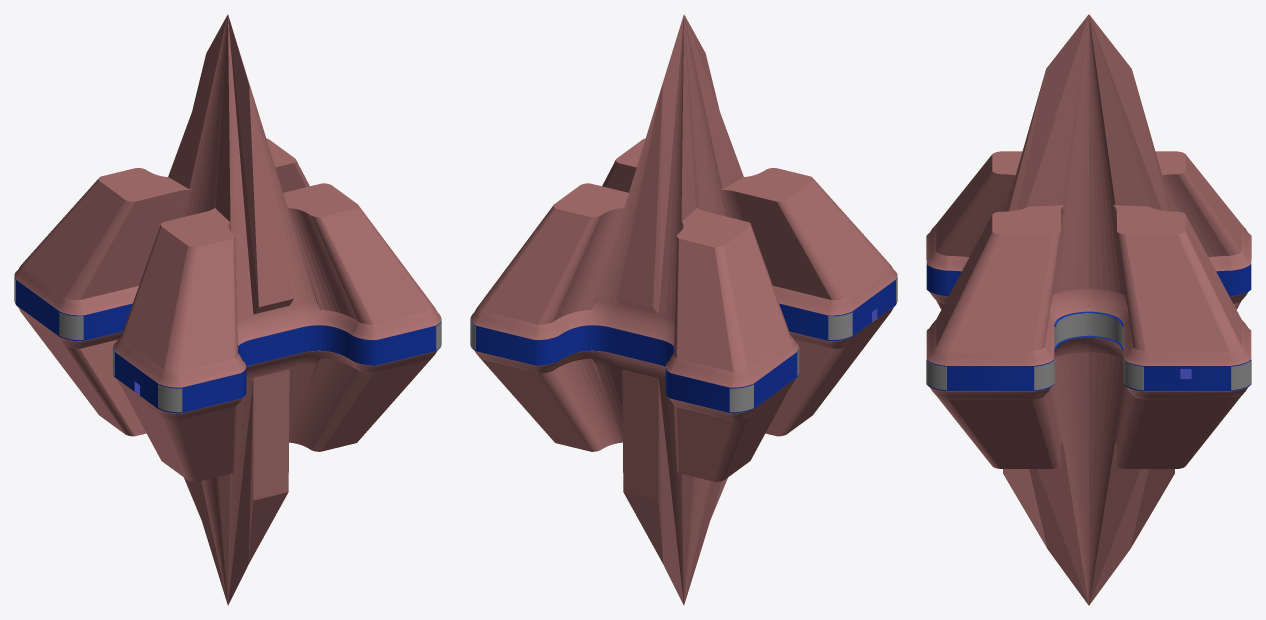
The model's file is Spire.FBX.
3 renders of one model, left to right at view 1: azimuth 30°, elevation 25°; view 2: azimuth 150°, elevation 25°; view 3: azimuth 270°, elevation 25°, orthographic.
Visible parts, largest first — view 1: Plane072; view 2: Plane072; view 3: Plane072.
Boxes of the visible parts, x1,y1,x2,y2 form: Plane072: (14, 14, 441, 605); Plane072: (470, 14, 897, 605); Plane072: (926, 14, 1251, 605).
Size of the model in its own units: 115 by 231 by 115.
